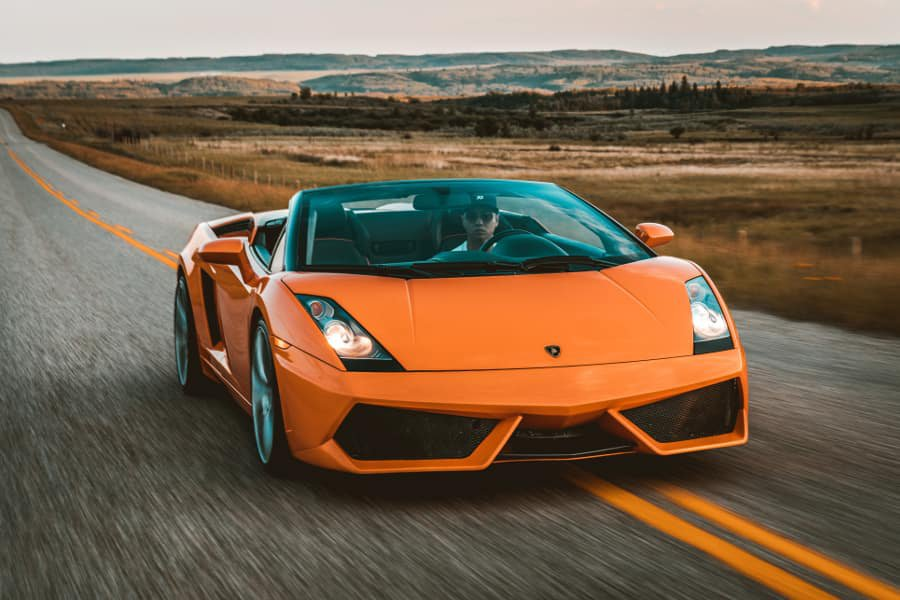car: (165, 171, 748, 451)
